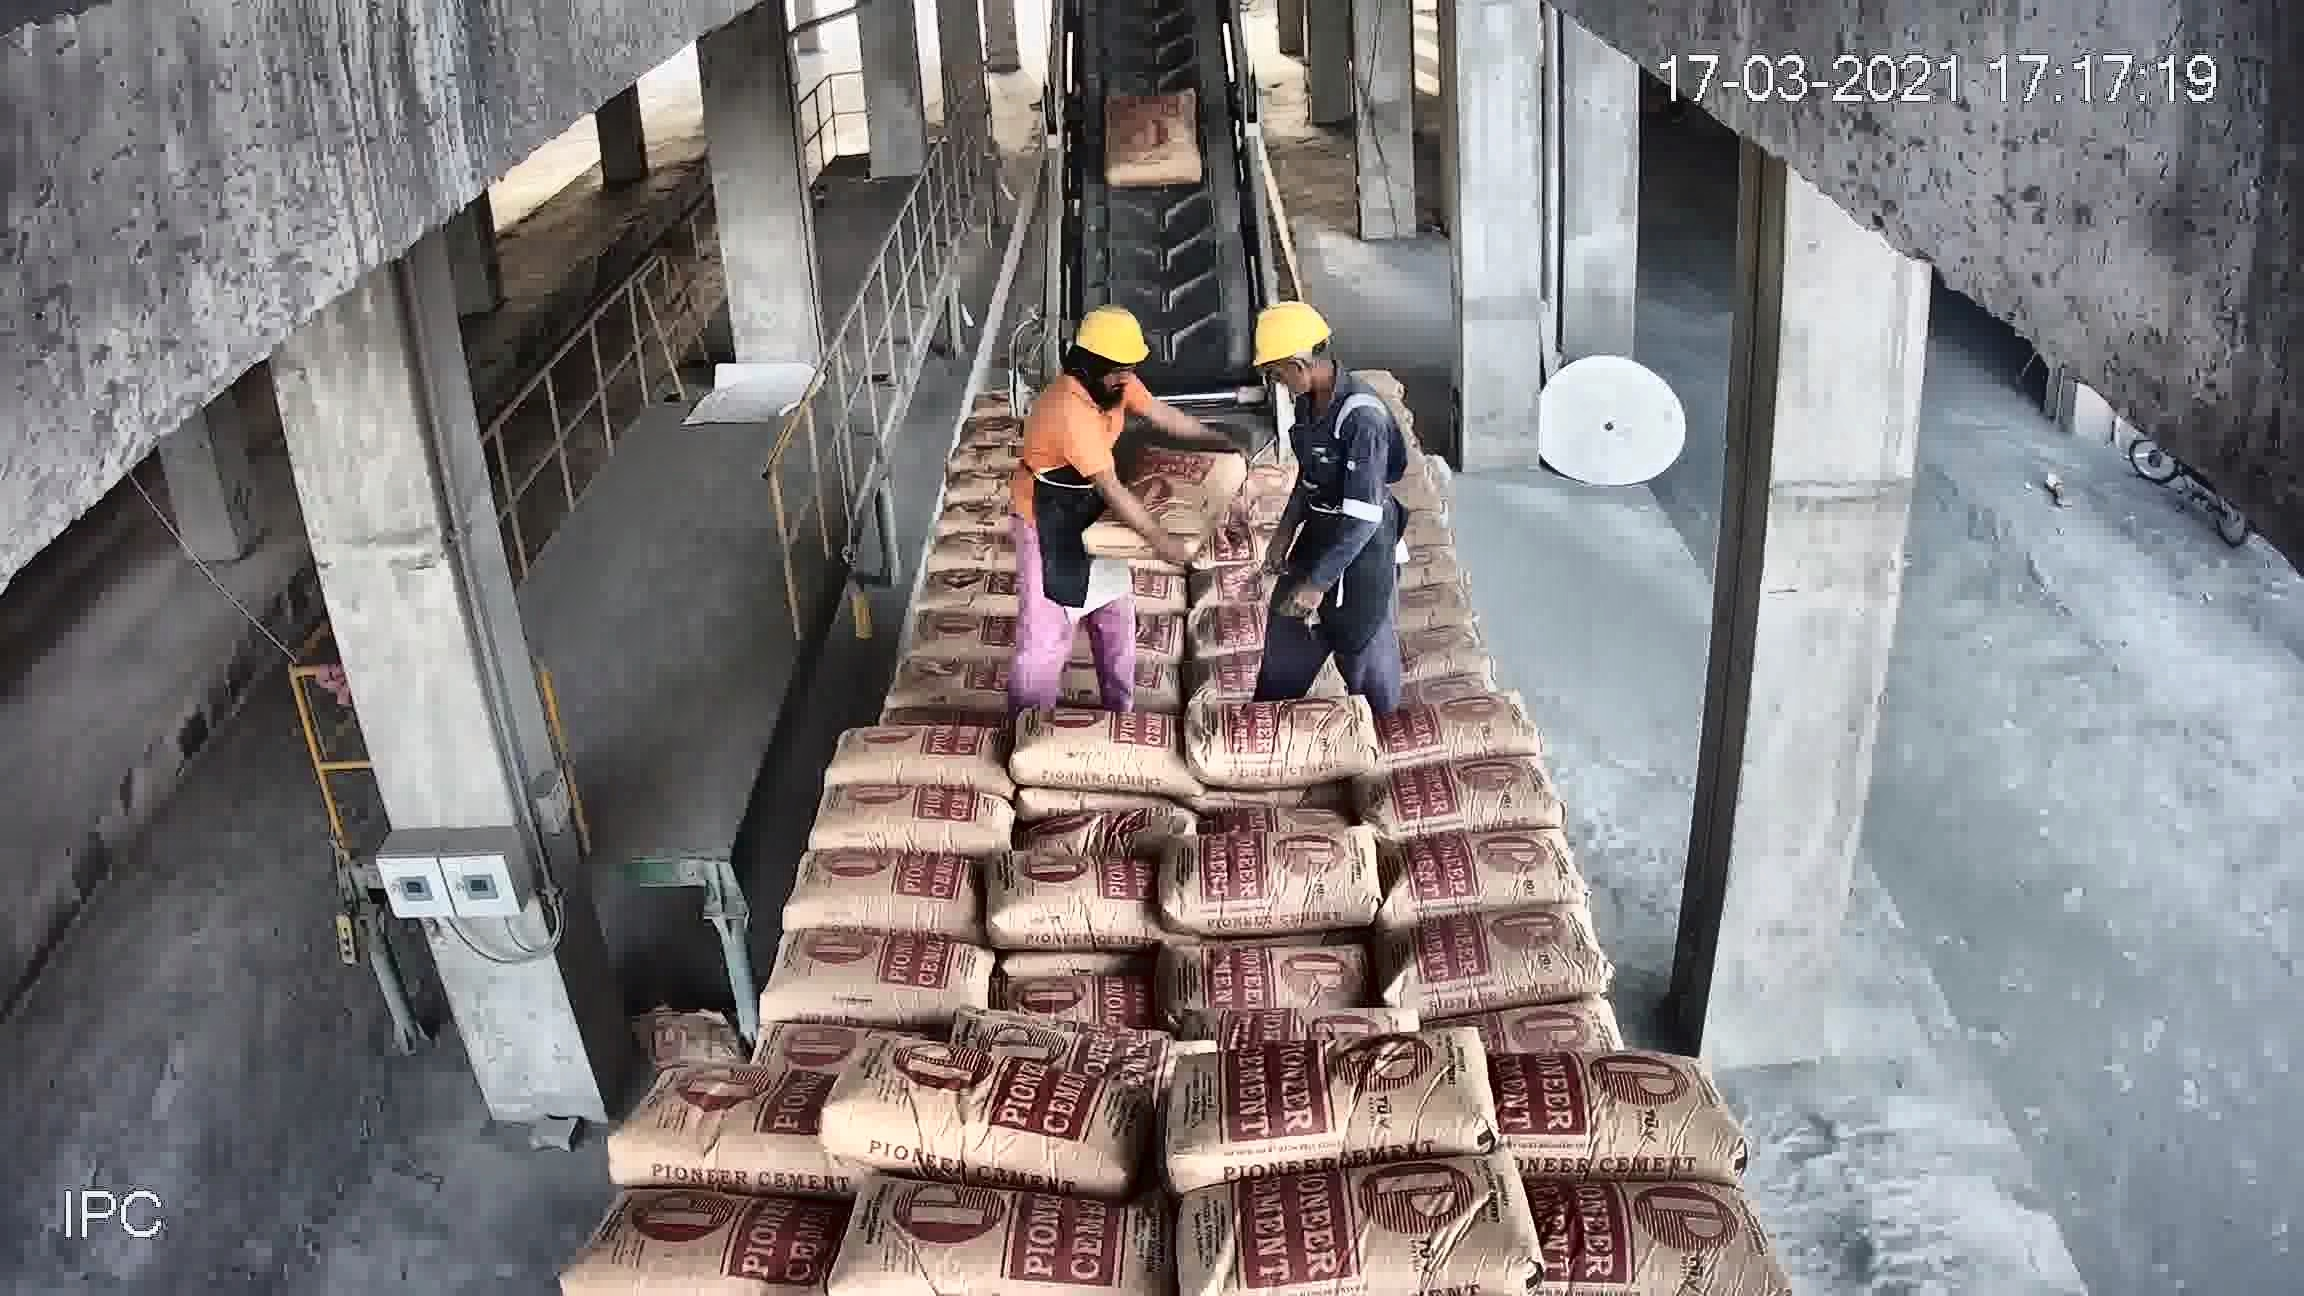bag: (1105, 78, 1203, 187)
bag_h: (1179, 1154, 1527, 1296), (1190, 1025, 1503, 1180), (798, 1046, 1135, 1177), (832, 1182, 1154, 1296), (1483, 1046, 1733, 1184), (1522, 1177, 1790, 1296), (555, 1190, 840, 1296), (608, 1074, 836, 1196), (1174, 824, 1397, 935), (1367, 911, 1605, 1010), (772, 929, 992, 1022), (785, 840, 987, 942), (1166, 932, 1374, 1027), (1087, 434, 1250, 554), (1388, 818, 1586, 910), (1374, 753, 1563, 847), (1002, 711, 1211, 794), (824, 715, 1021, 798), (810, 783, 1022, 859), (1204, 688, 1362, 786), (992, 940, 1166, 1029), (997, 858, 1157, 951), (1362, 692, 1541, 771), (961, 1005, 1180, 1059), (881, 650, 1025, 707), (892, 611, 1032, 669), (1393, 619, 1491, 676), (910, 562, 1014, 611), (1302, 290, 1389, 335)
belt: (1029, 19, 1287, 430)
